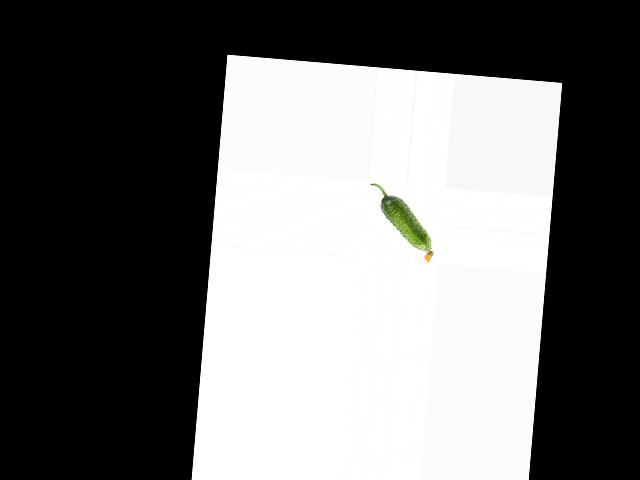cucumber: (364, 183, 439, 263)
